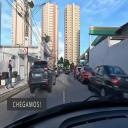NoEstacionar: (24, 46, 28, 54)
